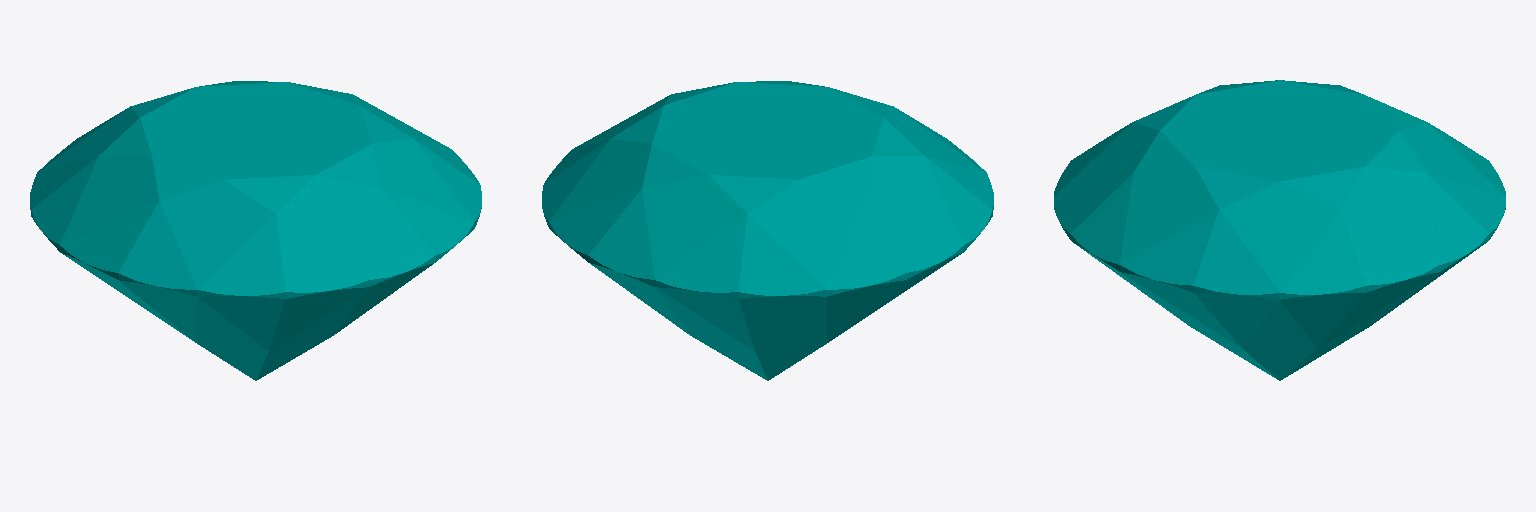
File: diamondR.obj
3 views of the same model, side by side, from view 1: azimuth 30°, elevation 25°; view 2: azimuth 150°, elevation 25°; view 3: azimuth 270°, elevation 25° (orthographic).
Parts seen in each view (by area): view 1: diamond_dmesh; view 2: diamond_dmesh; view 3: diamond_dmesh.
Boxes of the visible parts, x1=… form: diamond_dmesh: x1=30, y1=81, x2=481, y2=380; diamond_dmesh: x1=542, y1=81, x2=993, y2=380; diamond_dmesh: x1=1054, y1=80, x2=1505, y2=380.
Bounding box in the file's own units: 2 × 1.22 × 2.